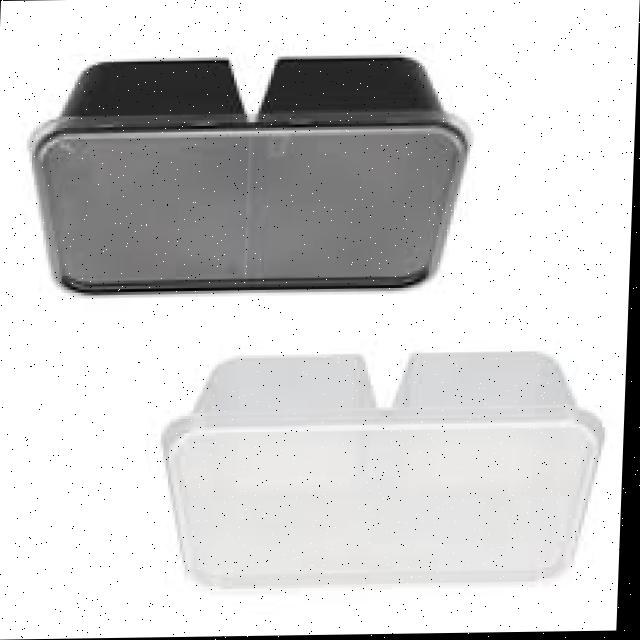disposable: (11, 39, 479, 315), (146, 339, 610, 599)
